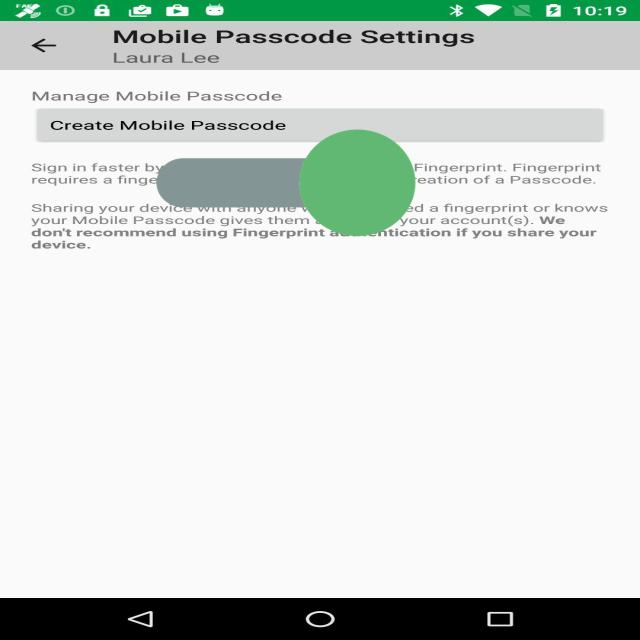social proof: (157, 64, 416, 302)
